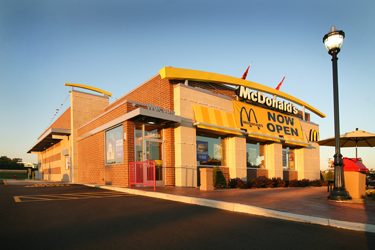mcdonalds: (236, 103, 263, 133), (305, 124, 318, 142)
